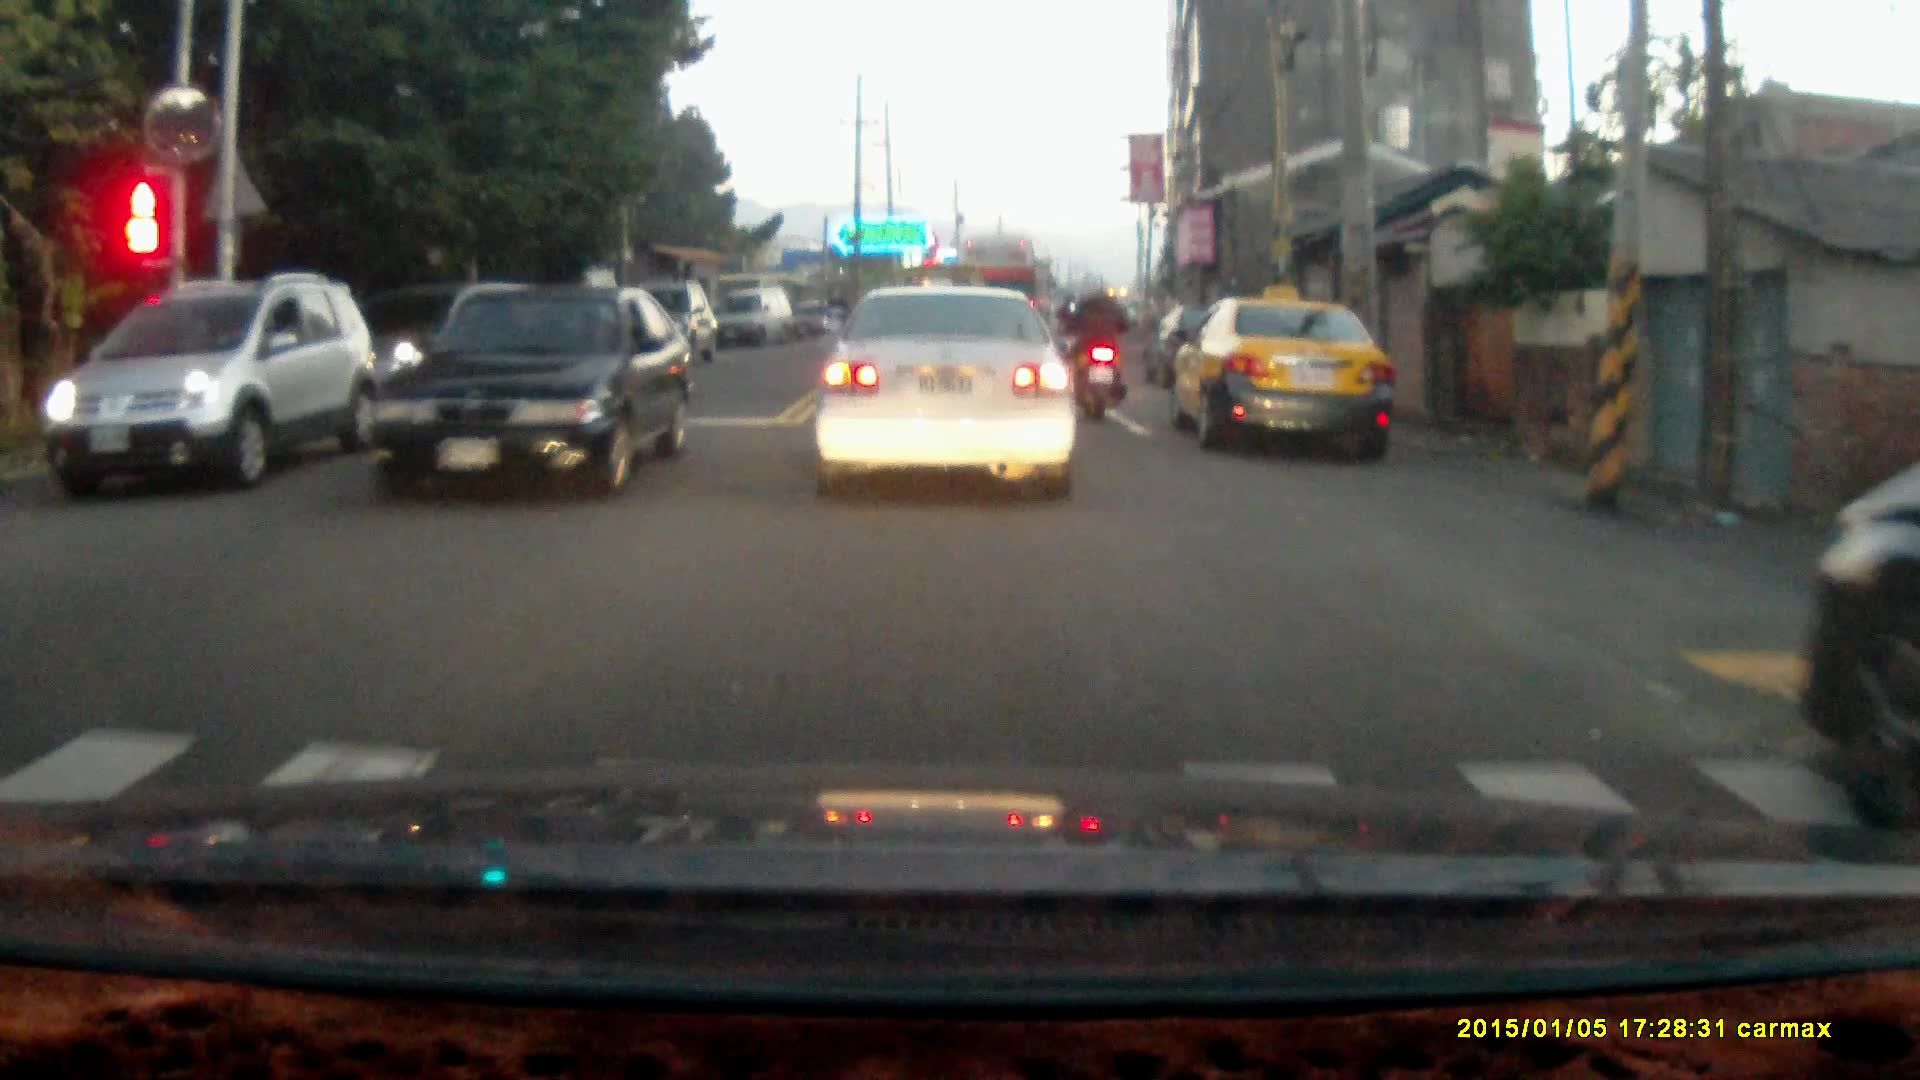rider: (1067, 273, 1134, 423), (815, 282, 848, 350)
vehicle: (35, 271, 363, 493), (363, 286, 694, 501), (813, 282, 1085, 500), (1794, 477, 1920, 803), (1176, 298, 1395, 456), (720, 288, 794, 351)
